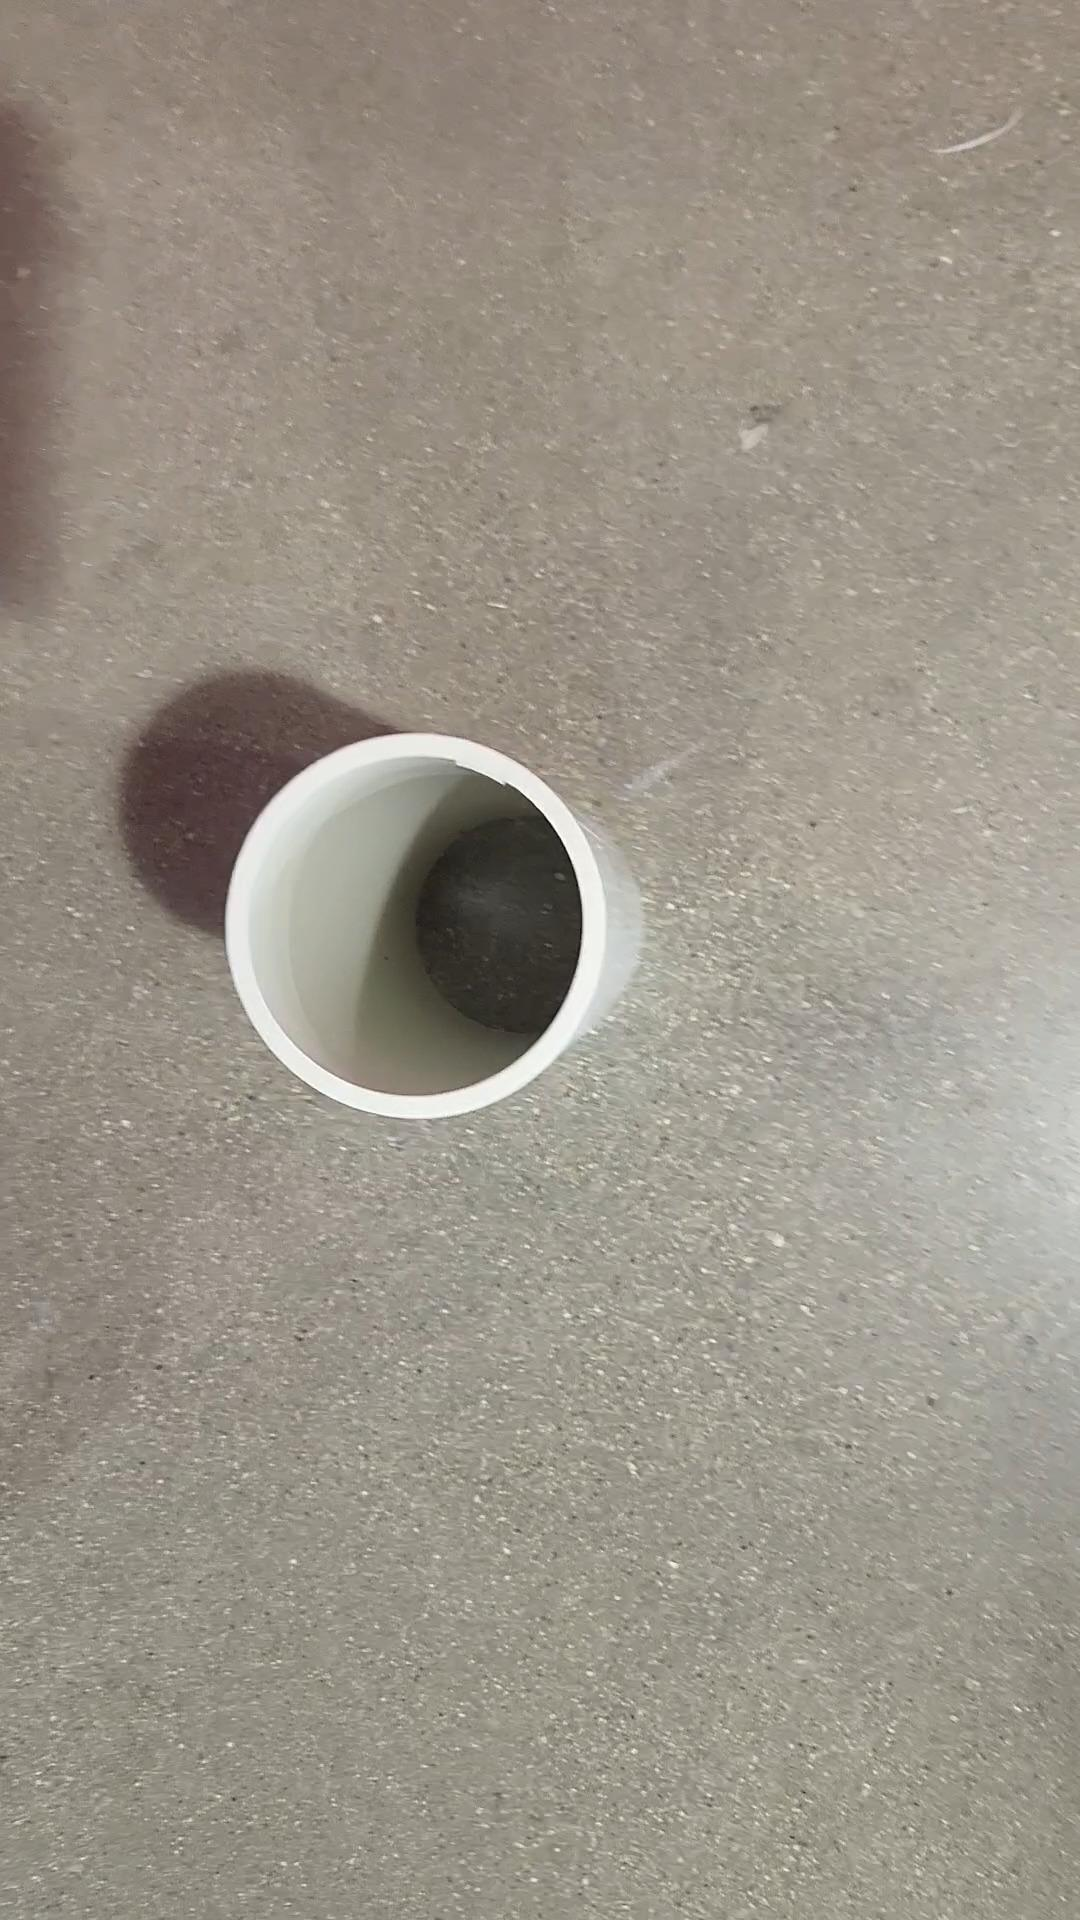coral: (225, 737, 640, 1122)
